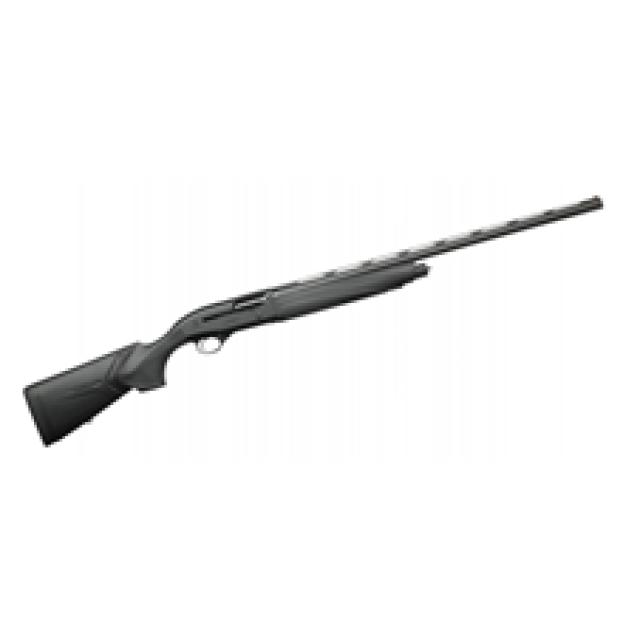rifle: (22, 186, 610, 452)
